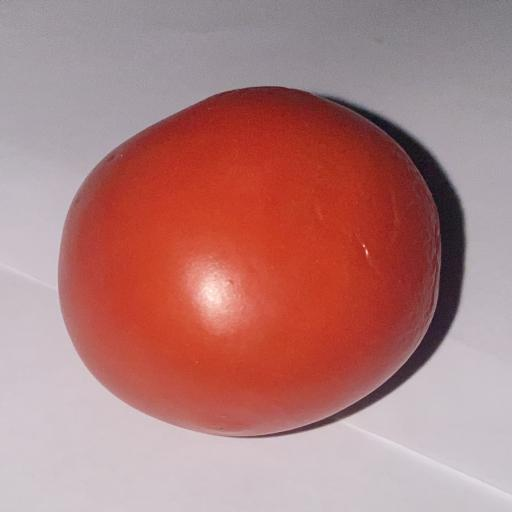spoiled: (59, 88, 440, 436)
